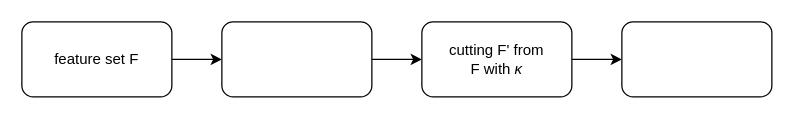
Some shapes in this 794 by 119 pixel diagram are drawn without their labels. Here are the shapes that lost their labels. From the top down, the box of each, then its label:
(221, 21, 372, 97): mesuring all f in F by μ
(621, 21, 772, 97): training classifier C on F'
